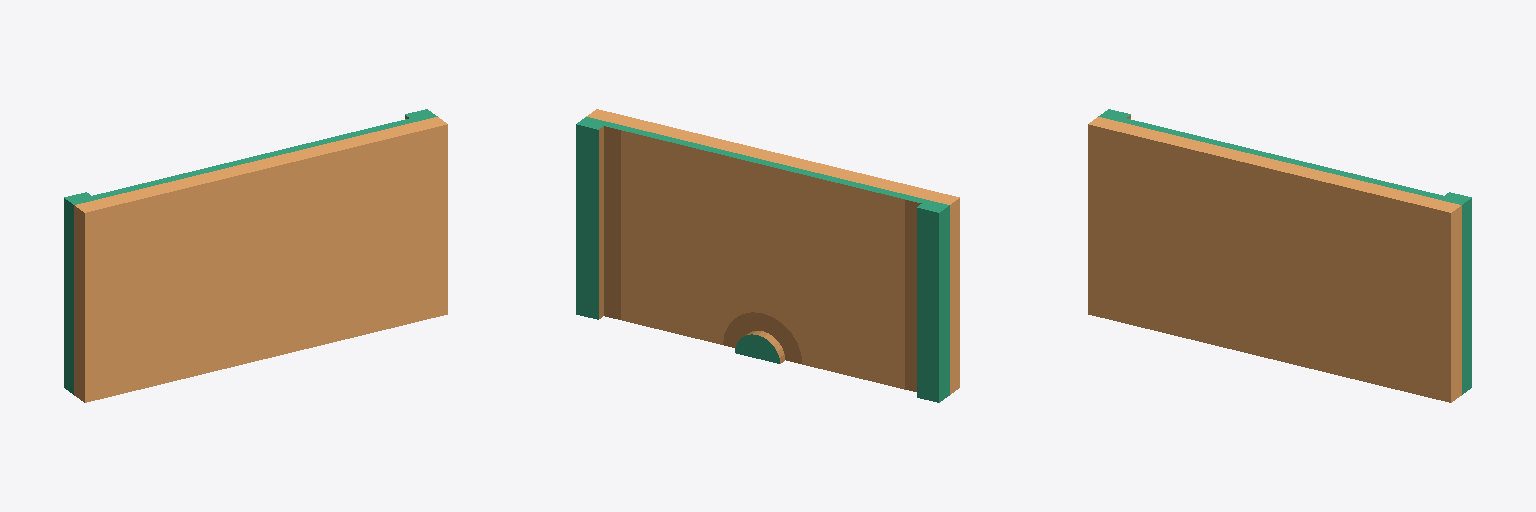
The model's file is tile_wideSplit.obj.
The picture shows the model from 3 angles: view 1: azimuth 30°, elevation 25°; view 2: azimuth 150°, elevation 25°; view 3: azimuth 330°, elevation 25°; orthographic projection.
Parts seen in each view (by area): view 1: tile_wideSplit; view 2: tile_wideSplit; view 3: tile_wideSplit.
Part boxes in pixels (x1,y1,x2,y2): tile_wideSplit: (64, 109, 447, 402); tile_wideSplit: (576, 109, 959, 402); tile_wideSplit: (1088, 109, 1471, 402).
Bounding box in the file's own units: 2 × 1 × 0.2.